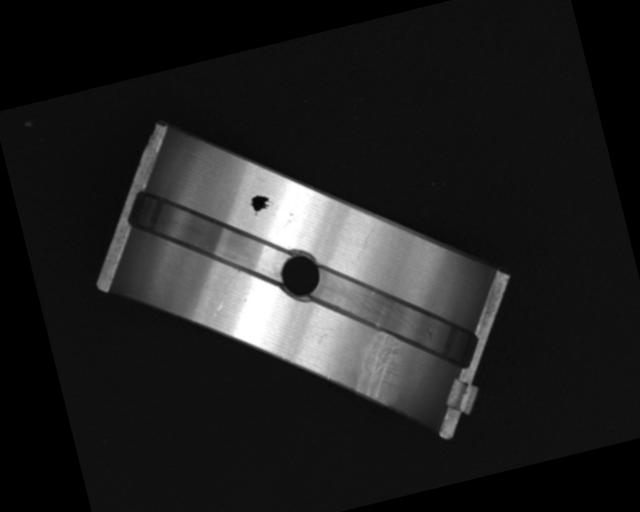blot: (247, 191, 277, 219)
gap: (305, 234, 478, 395), (123, 162, 290, 307)
hole: (275, 249, 324, 302)
nick: (203, 268, 248, 318), (350, 224, 380, 261)
scratch: (344, 327, 413, 409)
